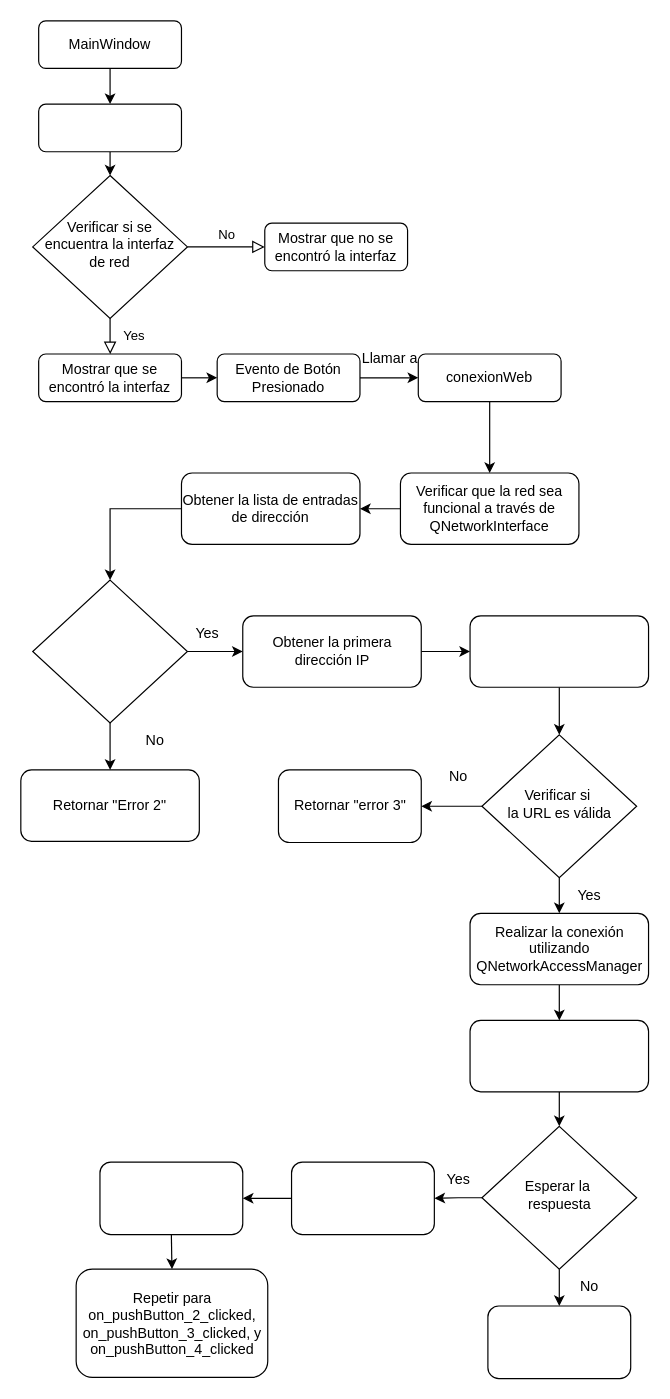
Image size: 670x1399. Some labels were removed from this diagram. The centre of each missing label's shape, as x and y in pixels:
"Conectarse al evento finished del QNetworkReply" belongs at point (559, 1055).
"Crear un objeto QNetworkRequest y configurar parámetros" belongs at point (559, 651).
"Devolver el mensaje de error" belongs at point (559, 1342).
"Inicializar la interfaz gráfica" belongs at point (109, 127).
"Leer y devolver la respuesta" belongs at point (362, 1198).
"Mostrar la respuesta de la operación" belongs at point (171, 1198).
"Verificar si la red está activa" belongs at point (109, 651).
